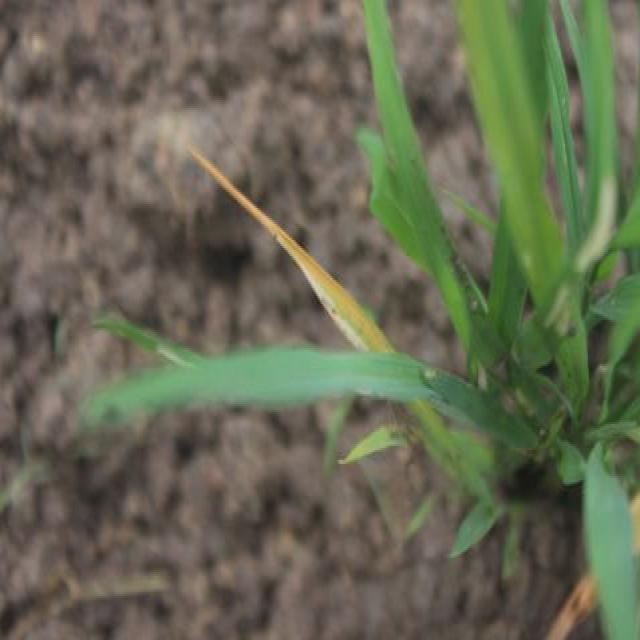Rice Tungro: (201, 148, 400, 347)
